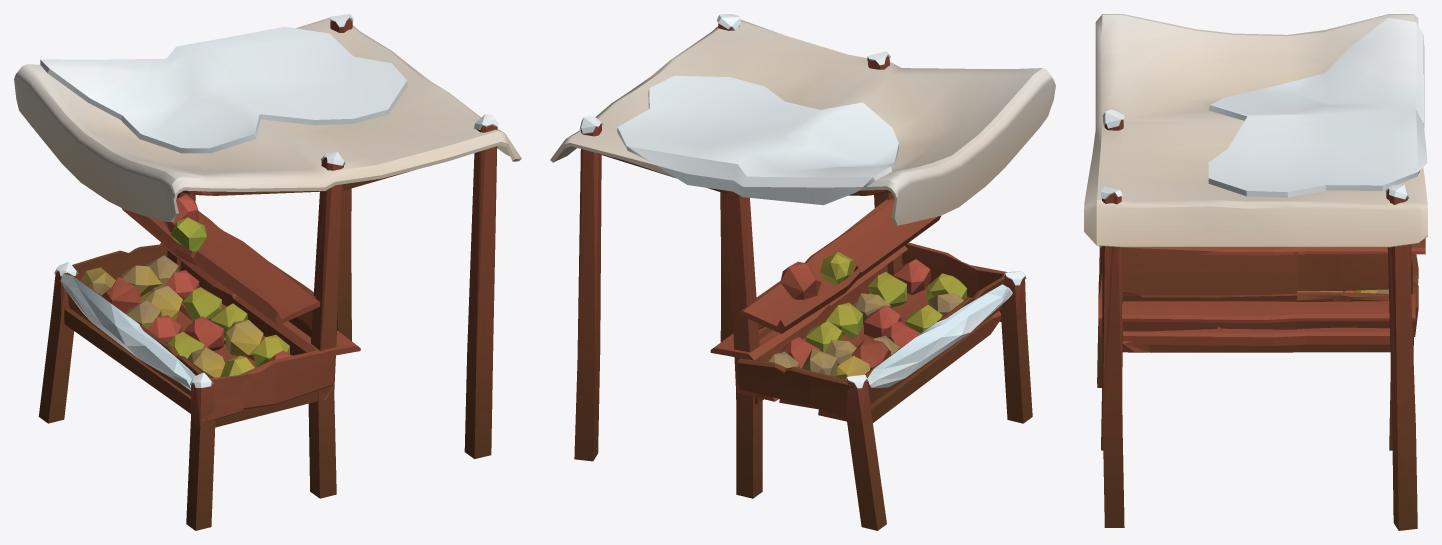
3 views of the same model, side by side, from view 1: azimuth 30°, elevation 25°; view 2: azimuth 150°, elevation 25°; view 3: azimuth 270°, elevation 25° (orthographic).
Visible parts, largest first — view 1: SnowyMarketStand; view 2: SnowyMarketStand; view 3: SnowyMarketStand.
Boxes of the visible parts, x1,y1,x2,y2 form: SnowyMarketStand: (14, 14, 521, 530); SnowyMarketStand: (550, 14, 1055, 530); SnowyMarketStand: (1084, 14, 1427, 530).
Size of the model in its own units: 184 by 180 by 155.
Materials: 1 (1 with a texture image).
